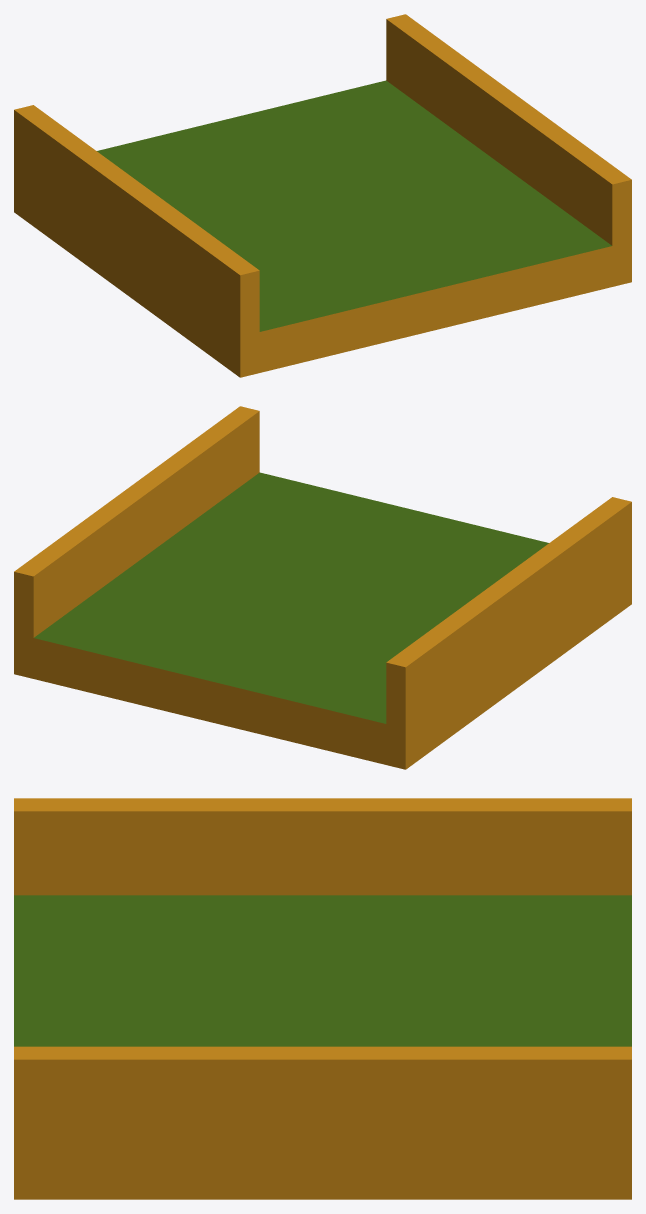
Rendered from Straight_Section_Proto.fbx.
3 renders of one model, top to bottom at view 1: azimuth 30°, elevation 25°; view 2: azimuth 150°, elevation 25°; view 3: azimuth 270°, elevation 25°, orthographic. The views are drawn at different scales.
Visible parts, largest first — view 1: Flat_Straight; view 2: Flat_Straight; view 3: Flat_Straight.
Boxes of the visible parts, x1,y1,x2,y2 form: Flat_Straight: (14,14,631,377); Flat_Straight: (14,406,631,769); Flat_Straight: (14,798,631,1199).
Bounding box in the file's own units: 100 × 25 × 100.
